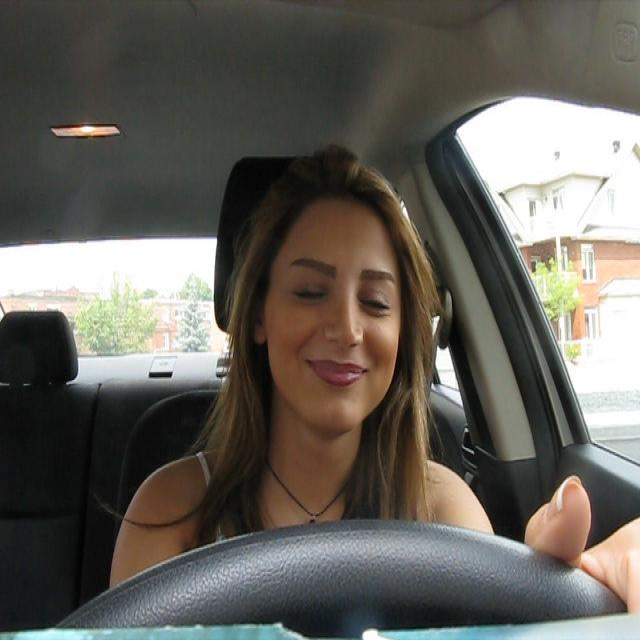Eyeclosed: (360, 290, 391, 321), (293, 284, 327, 309)
